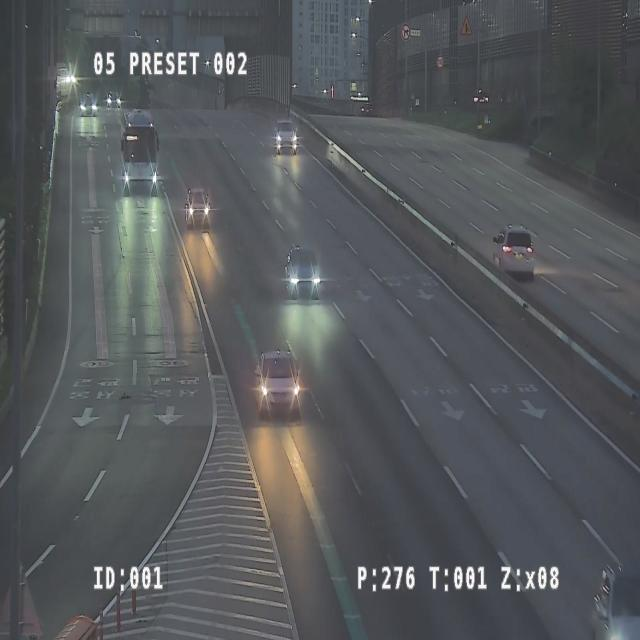Bus: (120, 110, 160, 196)
Car: (584, 536, 640, 640), (254, 350, 300, 419), (494, 227, 534, 281), (284, 248, 320, 301), (186, 189, 211, 231), (274, 121, 298, 156), (74, 90, 100, 119)
